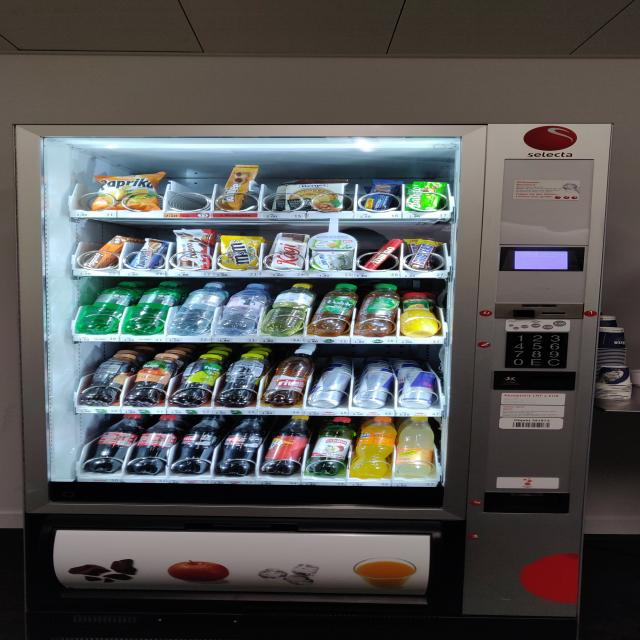balisto_muesli__37g__5000159418546: (402, 178, 448, 212)
berger_nusstoertli____: (283, 179, 348, 213)
bueno___43__4008400320328: (170, 226, 218, 272)
coke__flasche_50__54491472: (81, 416, 134, 475), (127, 418, 175, 477)
coke_zero_flasche_50__5449000131836: (215, 414, 263, 476), (172, 415, 219, 475)
darwida_sandwich____7610032065170: (305, 234, 357, 271)
evian___50__3068320353500: (218, 281, 266, 336)
fanta___50__40822938: (348, 418, 399, 478)
fuse_lemon__50__5449000235947: (172, 348, 225, 406), (218, 349, 270, 407)
fuse_peach__50__5449000236623: (125, 350, 187, 406), (77, 352, 137, 408)
granini_orange__50__: (399, 290, 444, 336)
kagi___50__7610046000259: (266, 232, 307, 272)
knoppers_riegel____4035800488808: (128, 238, 171, 268)
mezzomix___50__54490840: (260, 415, 308, 477)
mnms_gelb__45__40111445: (218, 234, 263, 272)
powerbar_proteinplusschoko__55__4029679520028: (357, 179, 402, 213)
ragusa___50__76401121: (81, 236, 128, 270)
ramseier_jusdepomme__50__7610057001078: (307, 417, 355, 479)
redbull___33__90162909: (354, 369, 401, 411), (310, 368, 354, 412), (398, 368, 440, 408)
rivella_rot__50__7610097111072: (264, 348, 314, 408)
schweppes_citrus__50__: (398, 418, 439, 476)
snickers___50__5000159461122: (401, 235, 446, 271)
toffifee___33__4014400924275: (213, 164, 262, 214)
torino___46__76415272: (358, 236, 401, 271)
valser_classic__50__76404160: (75, 280, 139, 334), (125, 282, 177, 335)
valser_still__50__7610335002575: (169, 282, 227, 335)
valser_vivabirne__50__7610335001530: (262, 280, 314, 334)
volvic_teeminze__50__3057640335648: (302, 281, 354, 340), (356, 282, 400, 337)
zweifel_paprika__90__7610095013002: (86, 172, 162, 213)
